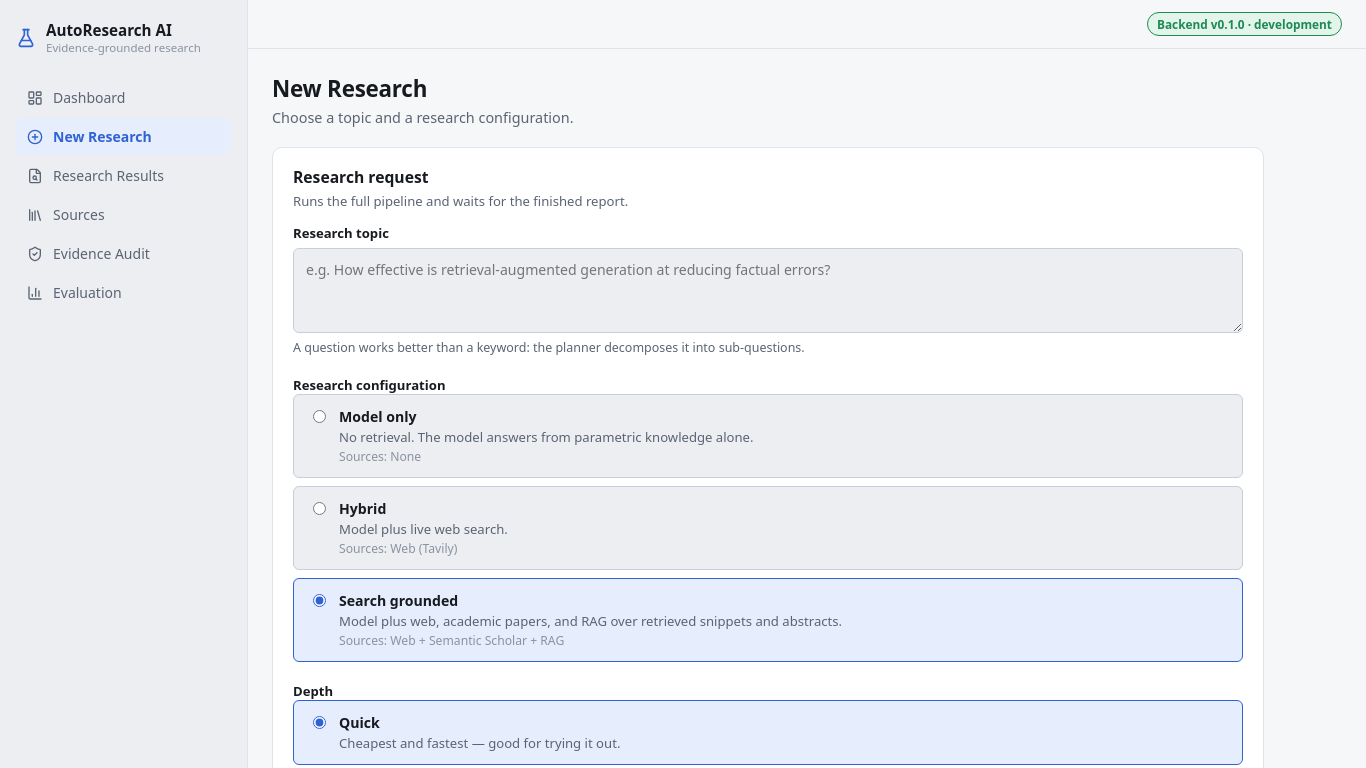
validation › flags a topic that is too short, once the field is left
The width and height of the screenshot is (1366, 768).
Type "RAG" into the text box labelled "Research topic" at (768, 291), box [293, 248, 1243, 333]
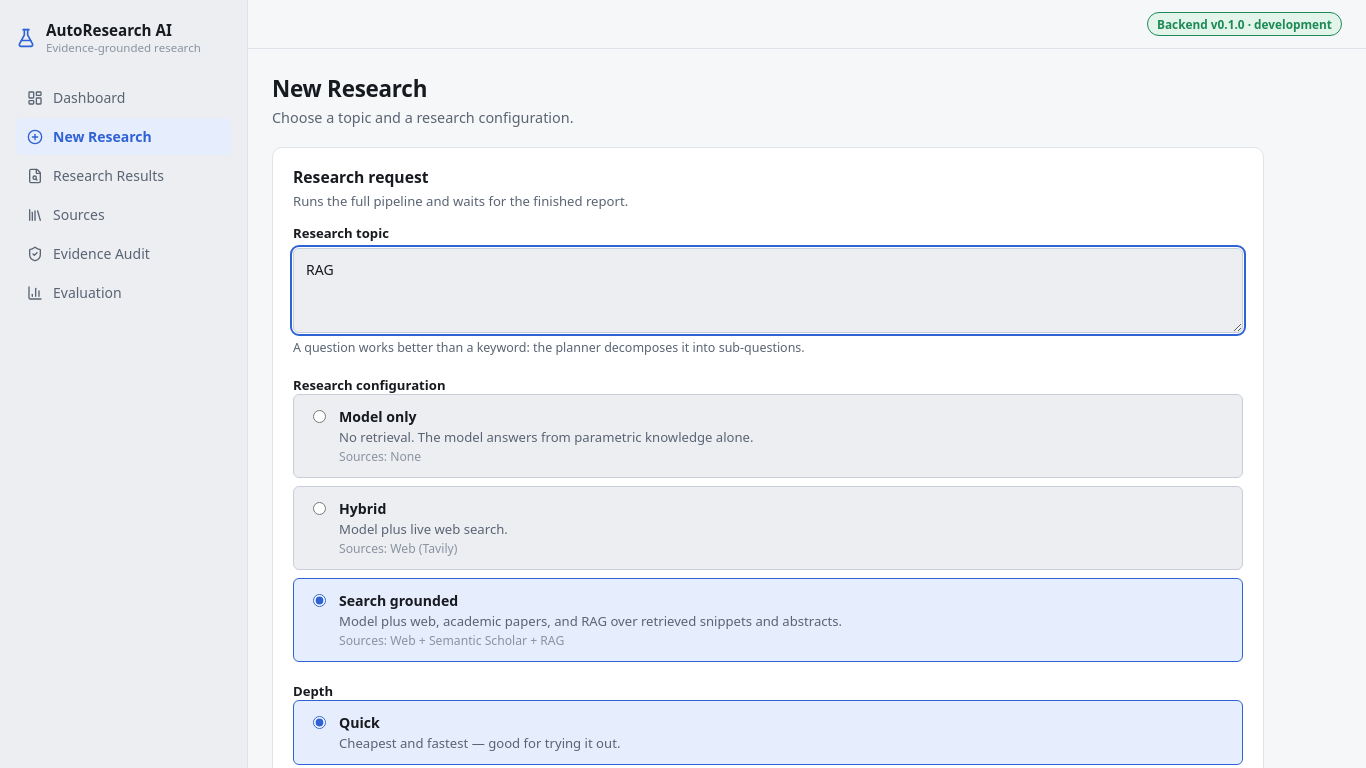
Press Tab
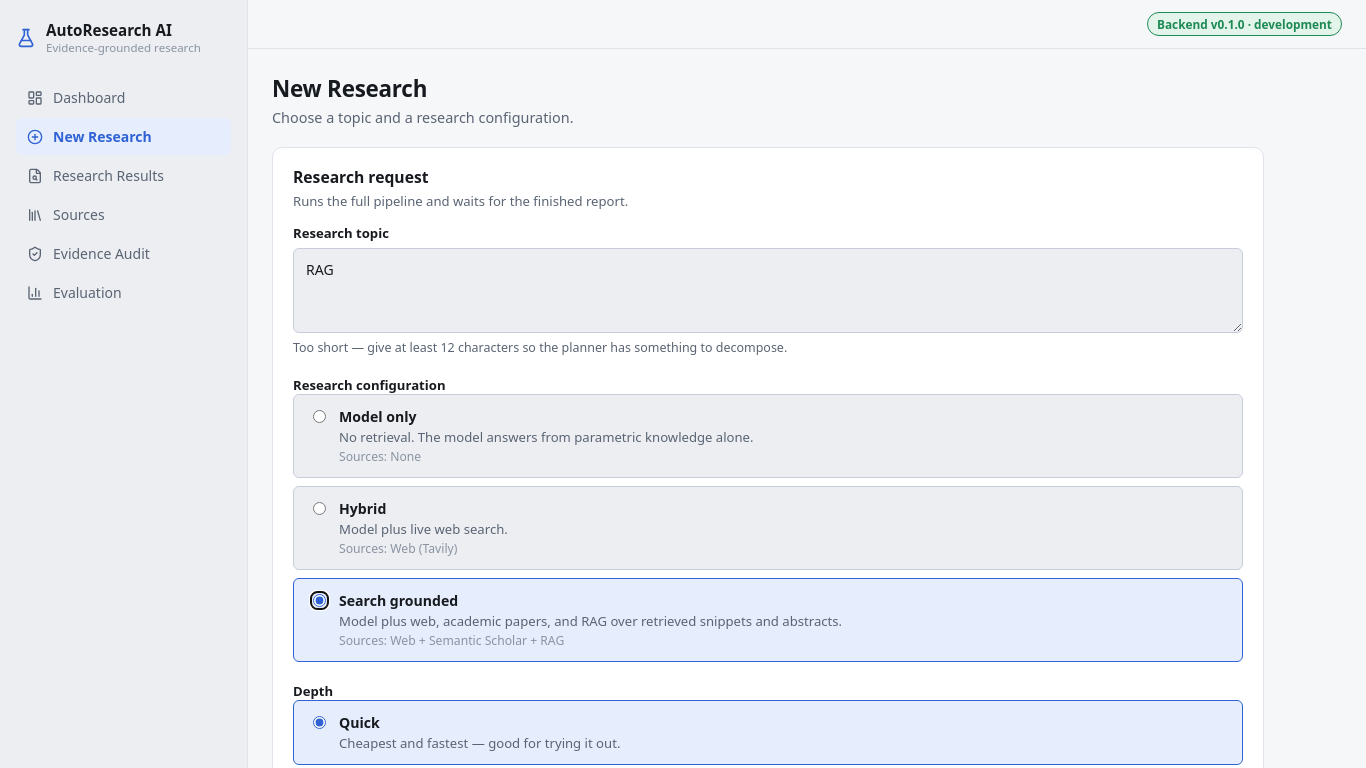
Now the text "Too short" is shown, box [293, 339, 787, 356]
